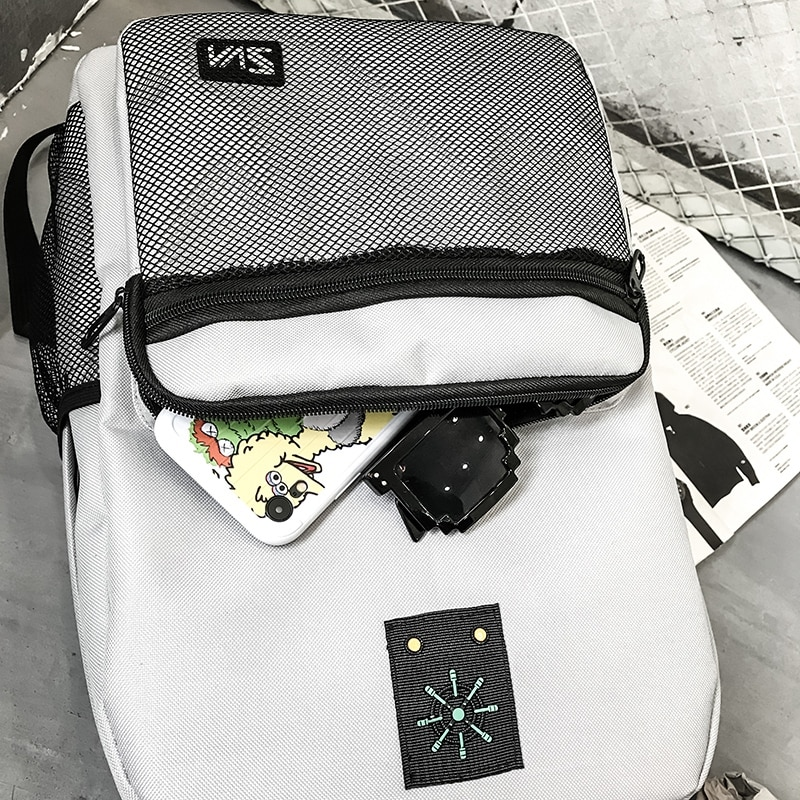Men's Backpacks: (2, 7, 728, 800)
Mobiles&Acc|Mobile Phone: (154, 409, 411, 551)
